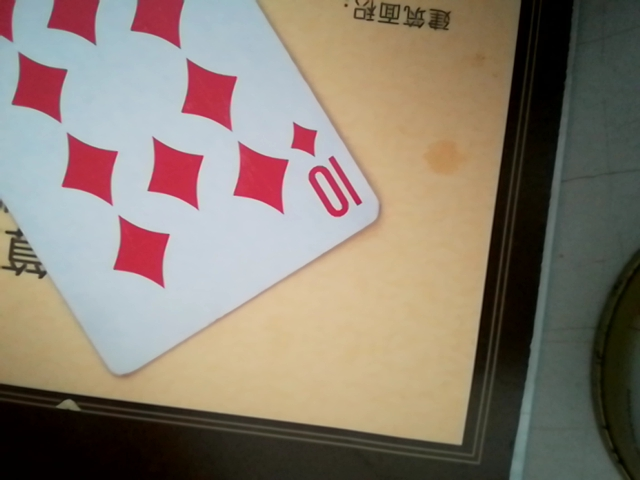fk 10: (0, 3, 387, 394)
